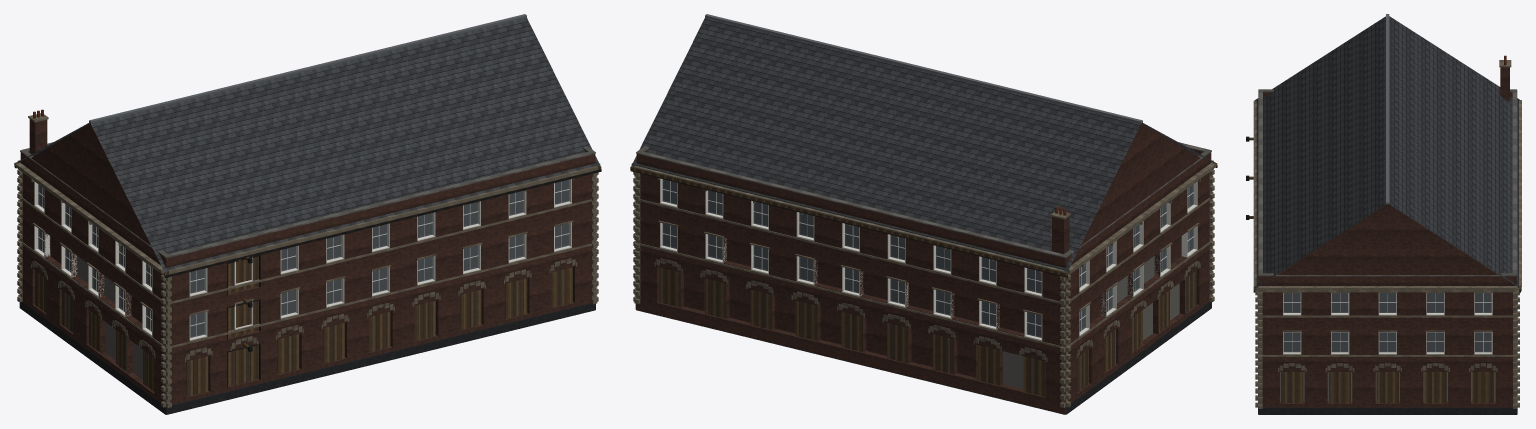
Rendered from B_store.glb.
The picture shows the model from 3 angles, left to right: view 1: azimuth 30°, elevation 25°; view 2: azimuth 150°, elevation 25°; view 3: azimuth 270°, elevation 25°; orthographic projection. The views are drawn at different scales.
Visible parts, largest first — view 1: B_store; view 2: B_store; view 3: B_store.
Part boxes in pixels (x1=…): B_store: x1=14, y1=14, x2=601, y2=414; B_store: x1=630, y1=14, x2=1217, y2=414; B_store: x1=1246, y1=14, x2=1521, y2=414.
Size of the model in its own units: 34.76 by 18.26 by 21.35.
13 materials, 8 textured.
